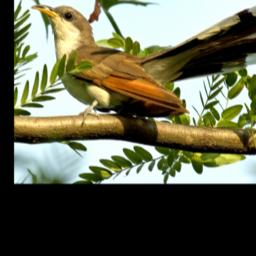Cuckoo: (31, 4, 256, 121)
